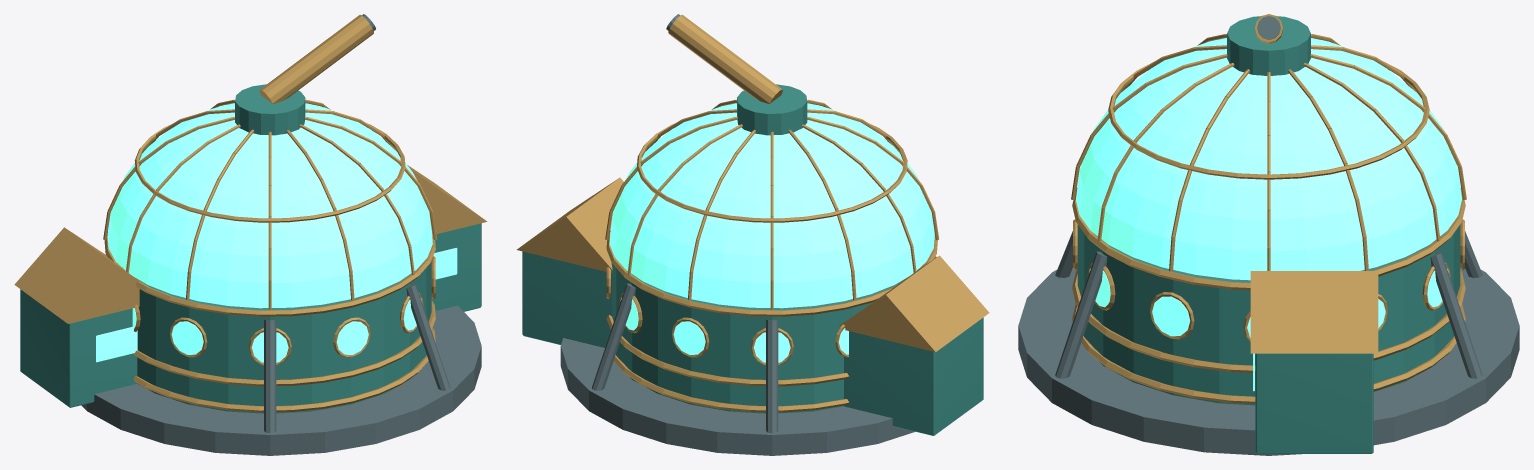
The model's file is world-observatory.glb.
The picture shows the model from 3 angles, left to right: view 1: azimuth 30°, elevation 25°; view 2: azimuth 150°, elevation 25°; view 3: azimuth 270°, elevation 25°; orthographic projection. The views are drawn at different scales.
Parts seen in each view (by area): view 1: world-observatory / Mint pressure glass, world-observatory / Copper verdigris, world-observatory / Weathered maritime brass, world-observatory / Abyssal iron; view 2: world-observatory / Mint pressure glass, world-observatory / Copper verdigris, world-observatory / Weathered maritime brass, world-observatory / Abyssal iron; view 3: world-observatory / Mint pressure glass, world-observatory / Copper verdigris, world-observatory / Abyssal iron, world-observatory / Weathered maritime brass.
Part boxes in pixels (x1,y1,x2,y2): world-observatory / Mint pressure glass: (96, 103, 457, 362); world-observatory / Copper verdigris: (20, 84, 481, 413); world-observatory / Weathered maritime brass: (14, 15, 487, 412); world-observatory / Abyssal iron: (81, 14, 481, 455); world-observatory / Mint pressure glass: (609, 103, 934, 362); world-observatory / Copper verdigris: (522, 84, 983, 435); world-observatory / Weathered maritime brass: (516, 14, 989, 412); world-observatory / Abyssal iron: (560, 14, 915, 455); world-observatory / Mint pressure glass: (1076, 38, 1461, 391); world-observatory / Copper verdigris: (1077, 16, 1460, 453); world-observatory / Abyssal iron: (1018, 16, 1519, 455); world-observatory / Weathered maritime brass: (1071, 14, 1466, 403).
Bounding box in the file's own units: 12.6 × 9.43 × 11.
